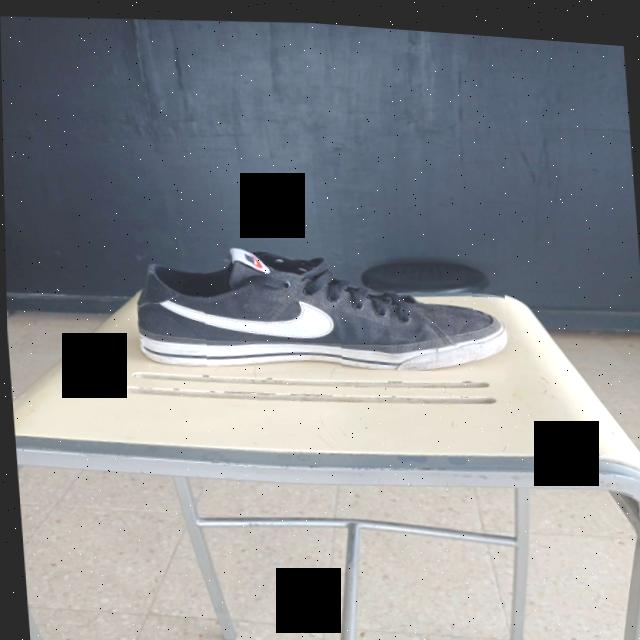shoe: (131, 221, 510, 384)
